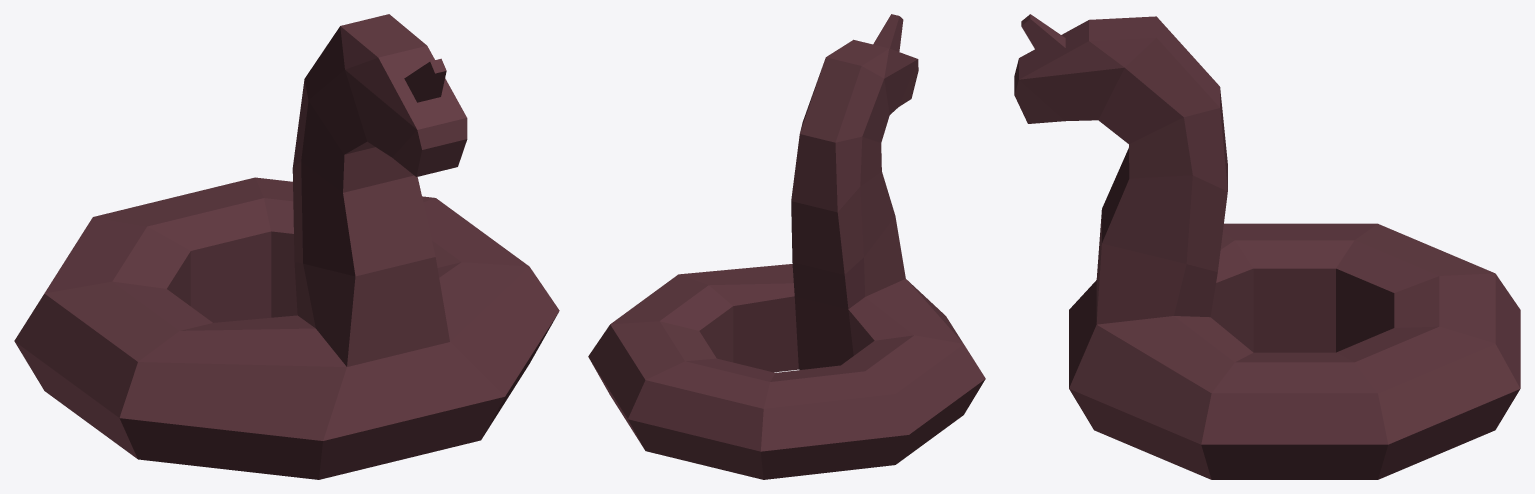
Rendered from inflatable-unicorn-small.fbx.
The picture shows the model from 3 angles, left to right: view 1: azimuth 30°, elevation 25°; view 2: azimuth 150°, elevation 25°; view 3: azimuth 270°, elevation 25°; orthographic projection. The views are drawn at different scales.
Visible parts, largest first — view 1: inflatable-unicorn-small; view 2: inflatable-unicorn-small; view 3: inflatable-unicorn-small.
Part boxes in pixels (bbox=[...]): inflatable-unicorn-small: bbox=[14, 14, 559, 479]; inflatable-unicorn-small: bbox=[588, 14, 985, 479]; inflatable-unicorn-small: bbox=[1014, 14, 1520, 479].
Bounding box in the file's own units: 0.8322 × 0.7957 × 0.9327.
